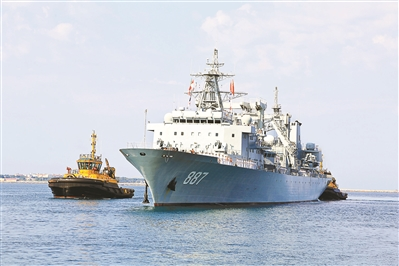otherboat: (48, 134, 136, 201), (319, 172, 349, 204)
warship: (120, 57, 332, 205)
